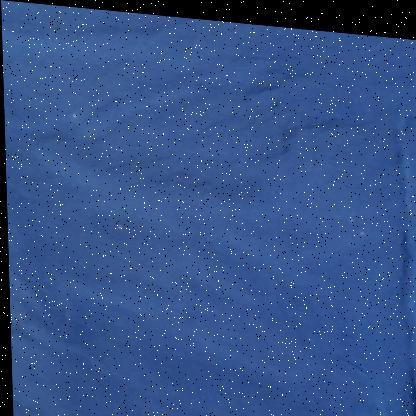spot: (341, 203, 373, 238), (109, 218, 125, 235), (67, 105, 80, 124)
